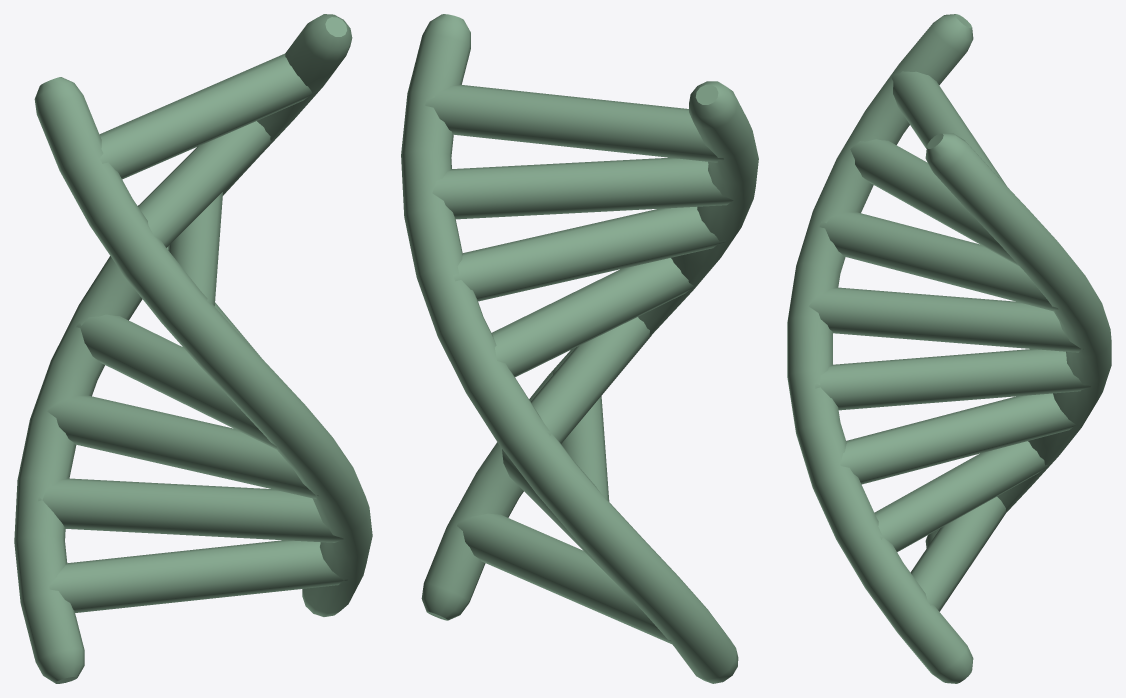
File: DNA_01.fbx
3 renders of one model, left to right at view 1: azimuth 30°, elevation 25°; view 2: azimuth 150°, elevation 25°; view 3: azimuth 270°, elevation 25°, orthographic. The views are drawn at different scales.
Visible parts, largest first — view 1: DNA Strand; view 2: DNA Strand; view 3: DNA Strand.
Part boxes in pixels (bbox=[...]): DNA Strand: bbox=[14, 14, 372, 683]; DNA Strand: bbox=[401, 14, 758, 683]; DNA Strand: bbox=[787, 14, 1111, 683].
Bounding box in the file's own units: 2.83 × 5.23 × 2.81.
